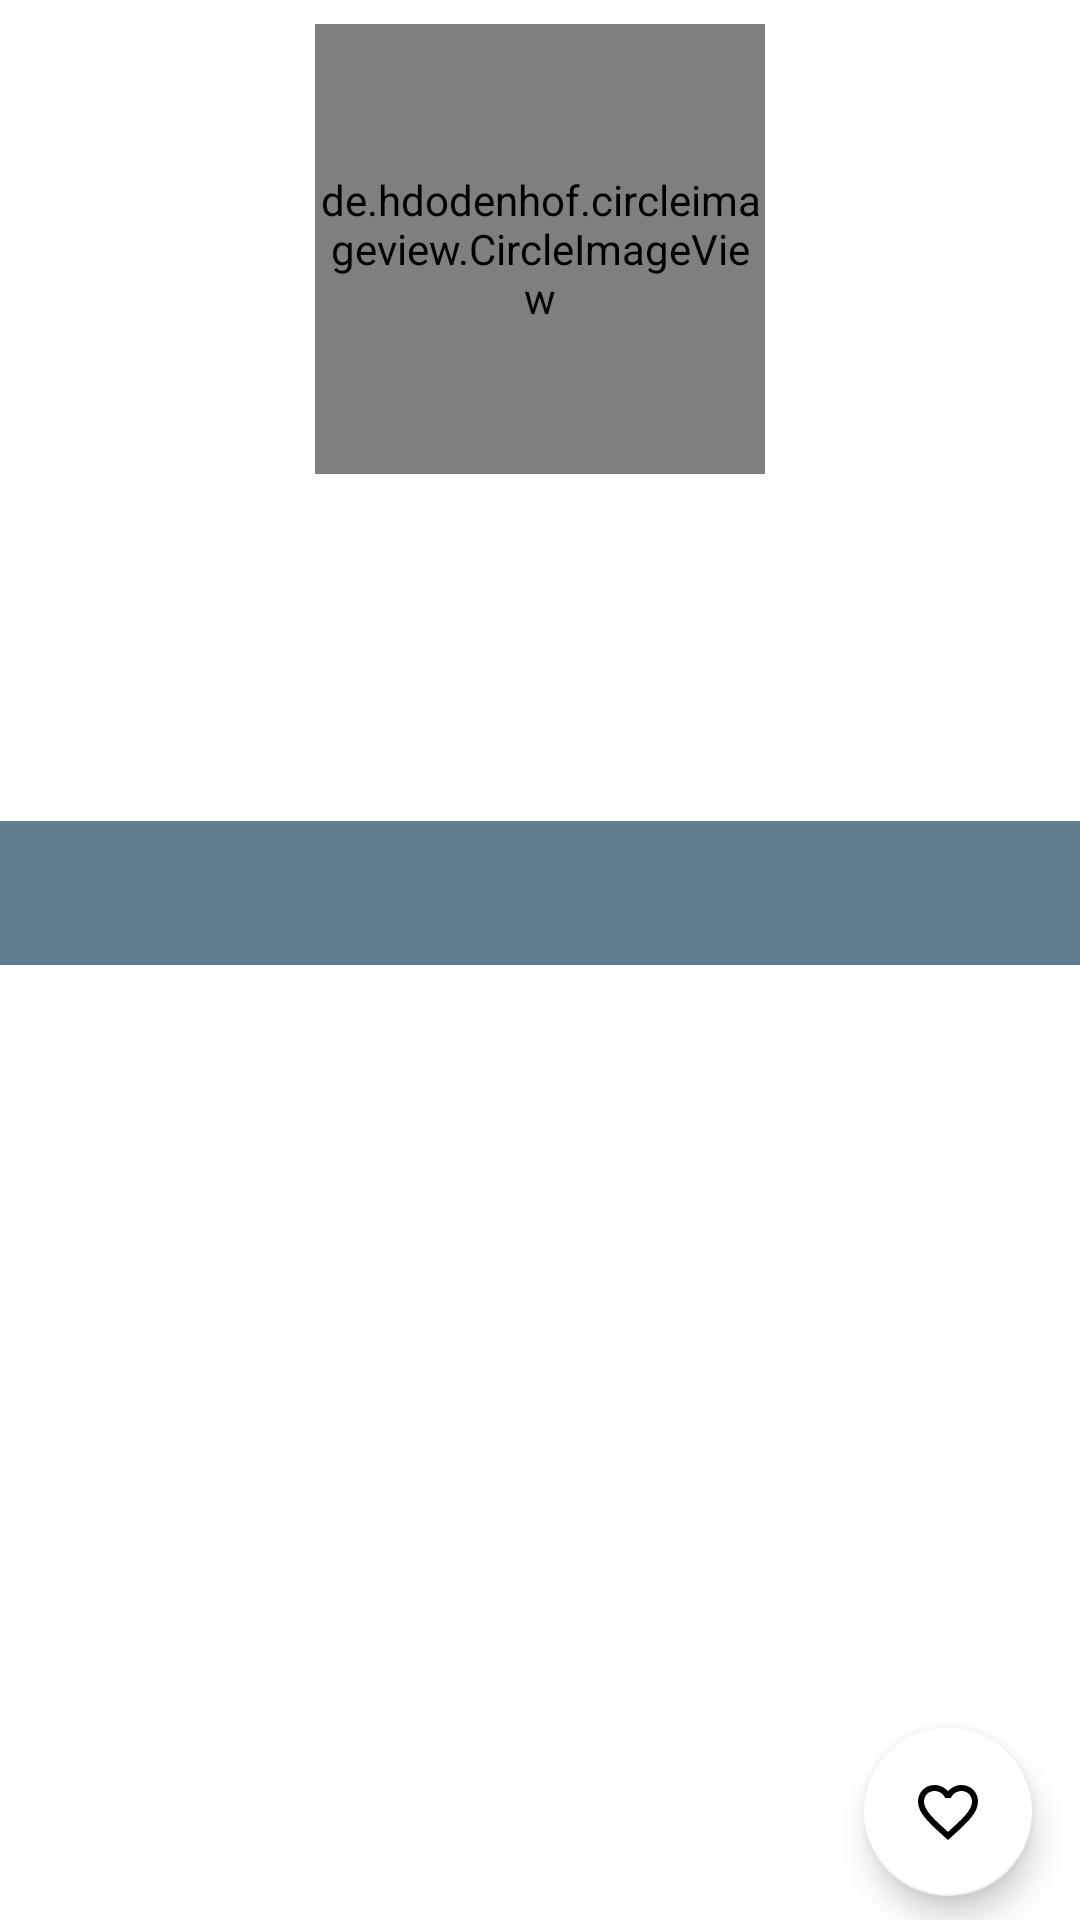

Icon click points for this 1080 x 1920 phone screenshot, format [x,y]:
Add to Favourite: [950,1840]
